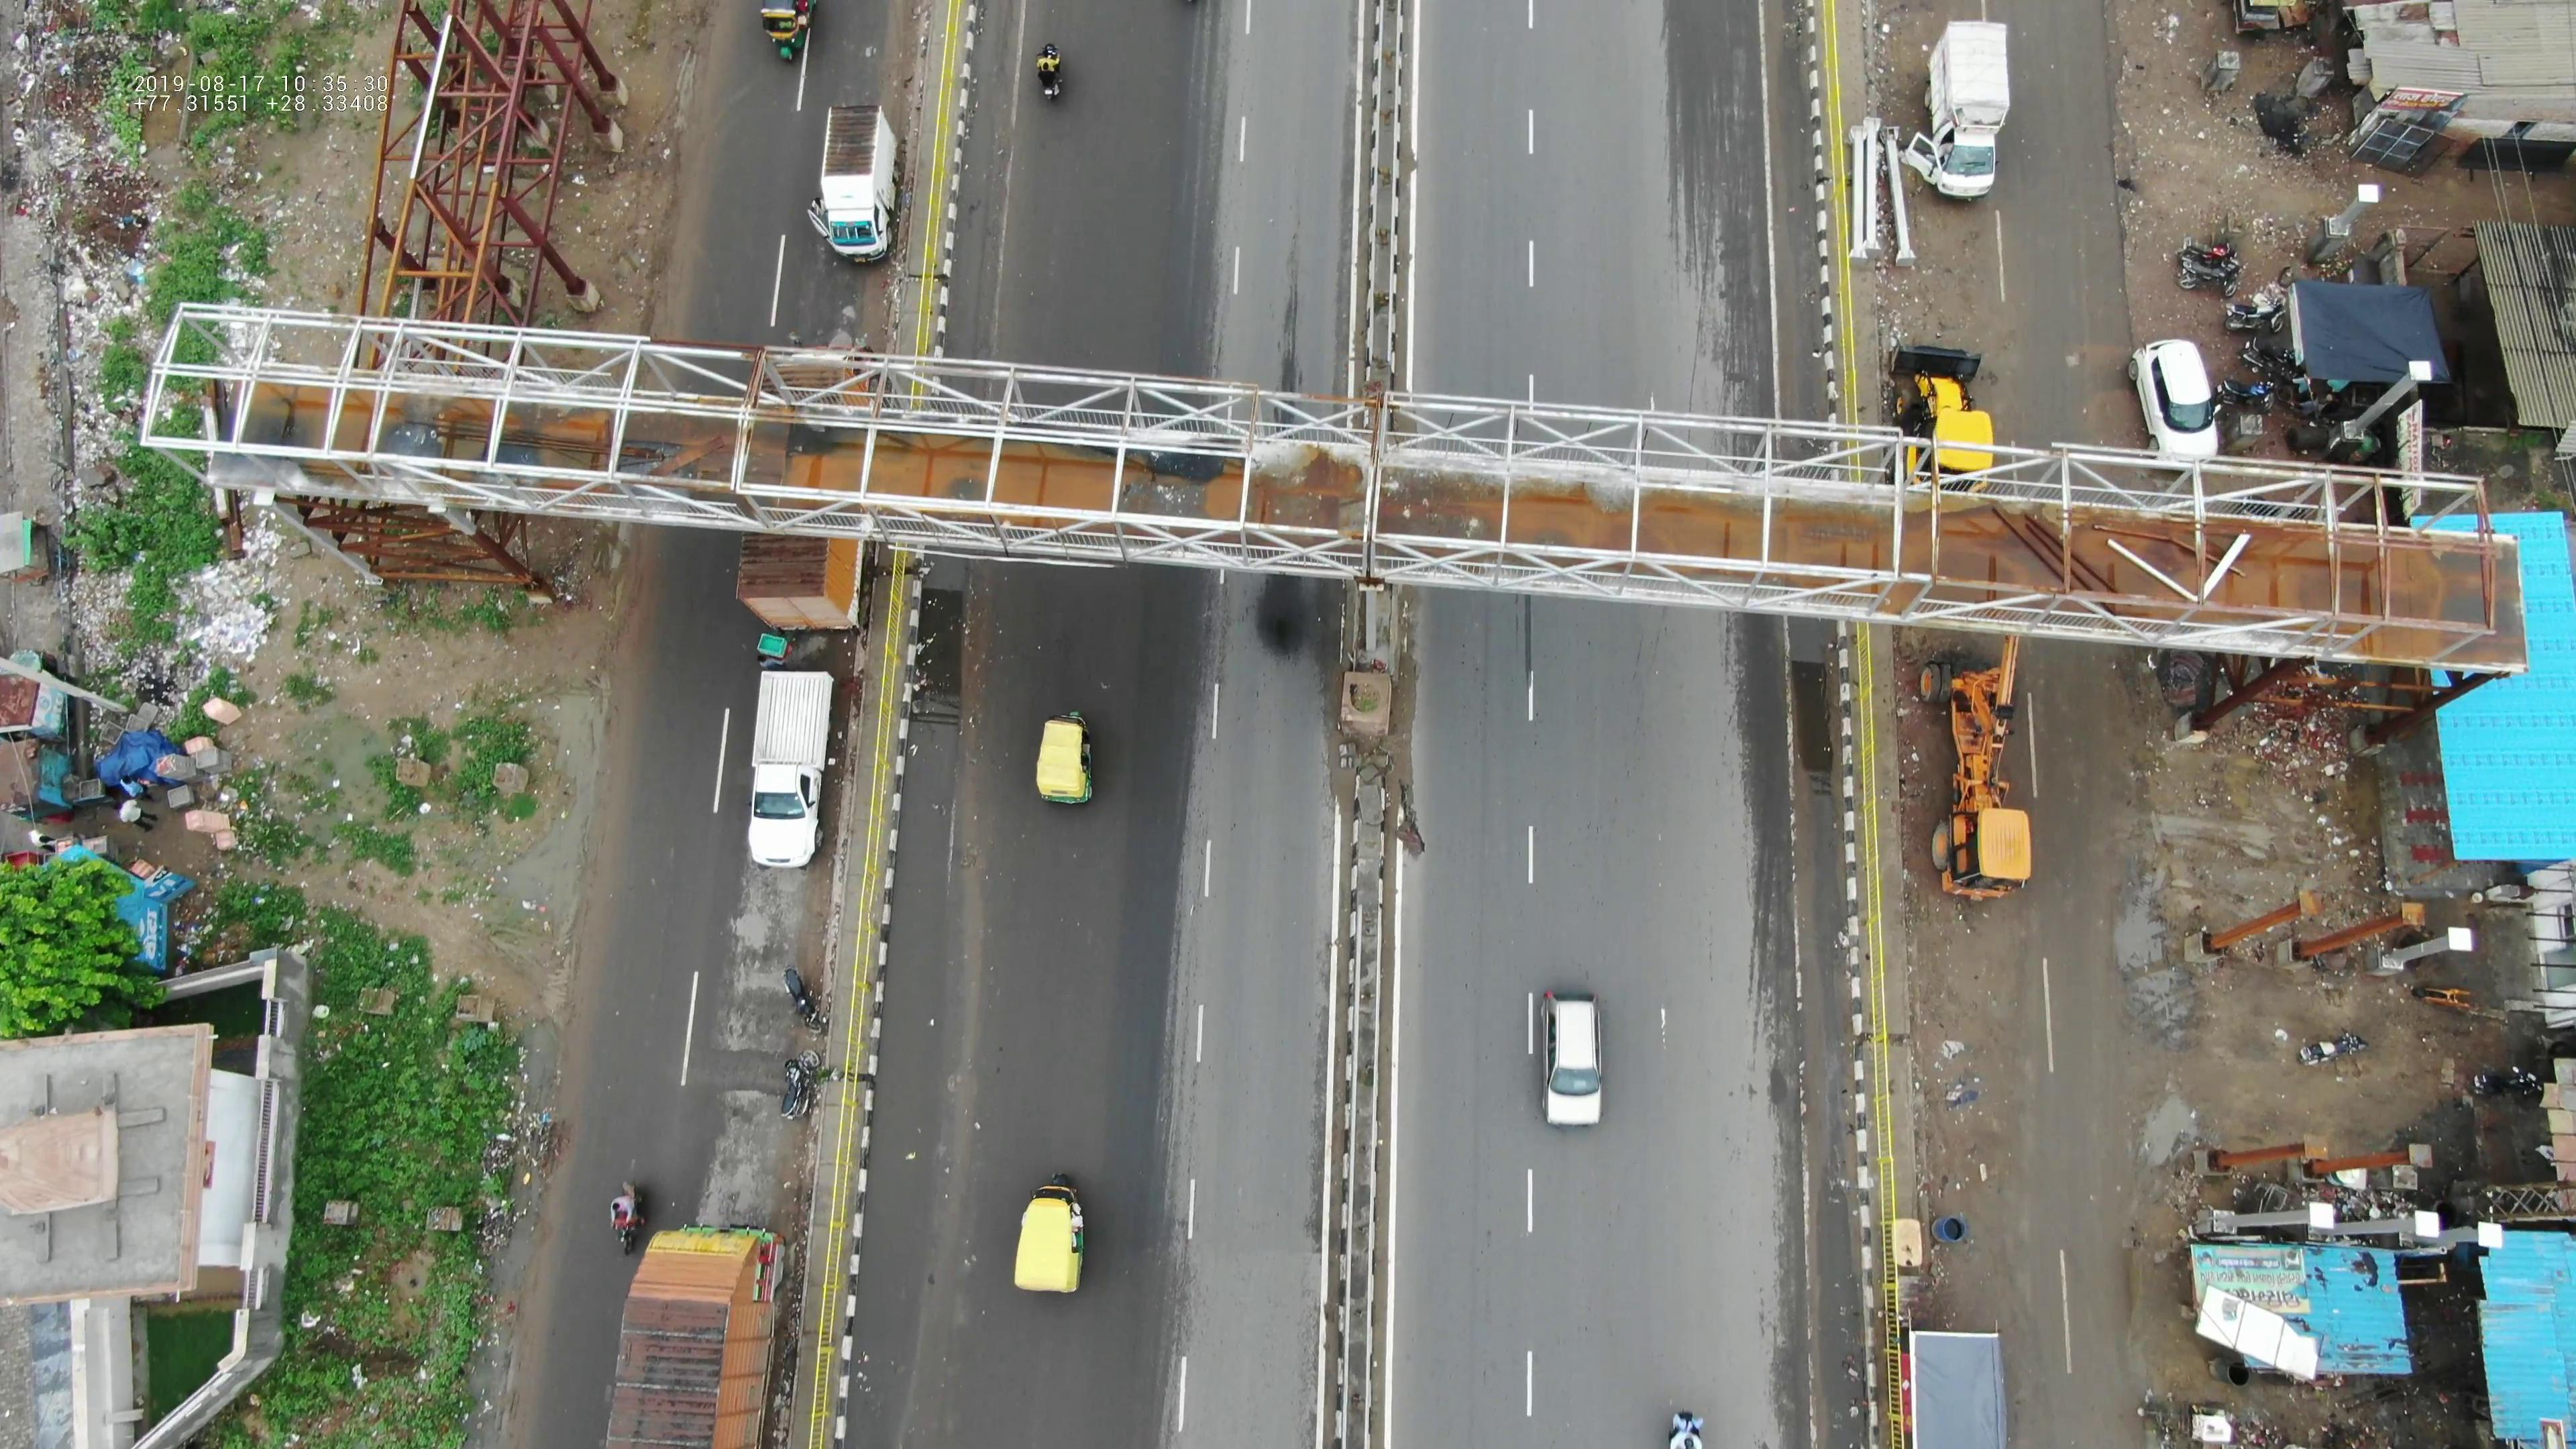Waterlogging: (863, 679, 970, 1219), (2097, 858, 2204, 1047), (1767, 630, 1851, 872), (2104, 1072, 2204, 1171)
